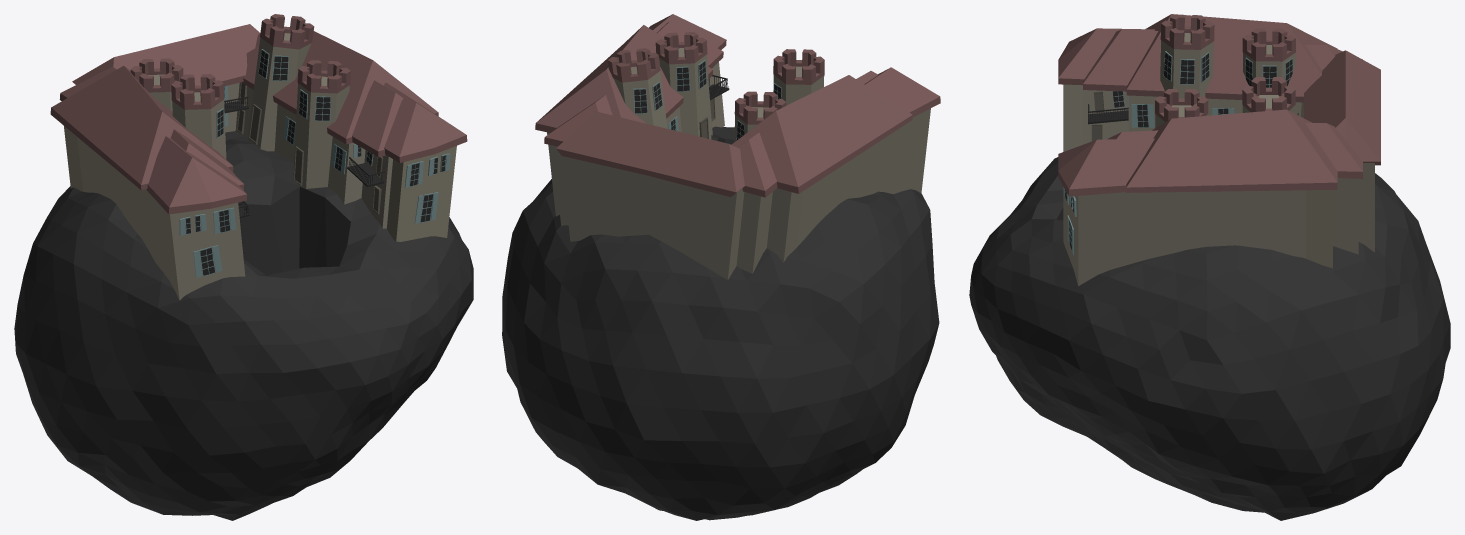
Rendered from Garden_Planet_v1.fbx.
3 views of the same model, side by side, from view 1: azimuth 30°, elevation 25°; view 2: azimuth 150°, elevation 25°; view 3: azimuth 270°, elevation 25° (orthographic). The views are drawn at different scales.
Visible parts, largest first — view 1: Garden_Planet; view 2: Garden_Planet; view 3: Garden_Planet.
Part boxes in pixels (left/top/right/bottom): Garden_Planet: left=14, top=14, right=473, bottom=520; Garden_Planet: left=502, top=14, right=940, bottom=520; Garden_Planet: left=969, top=14, right=1450, bottom=520.
Bounding box in the file's own units: 558 × 604 × 576.
